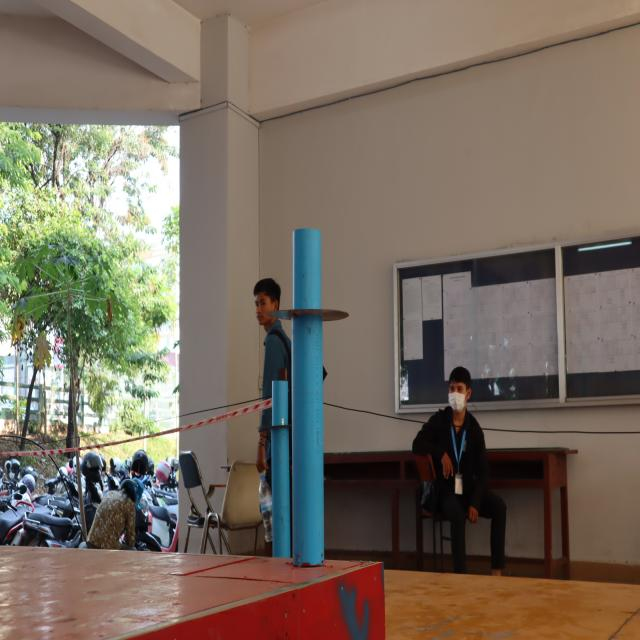pole: (260, 224, 349, 357), (257, 380, 294, 450)
